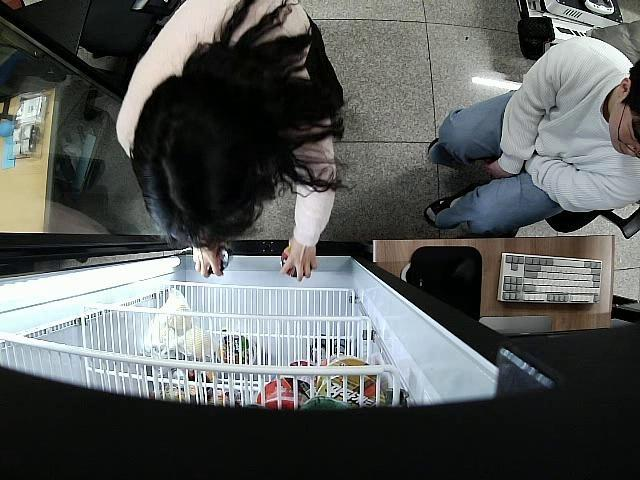08_buldak_S: (281, 248, 311, 278), (205, 247, 232, 276)
